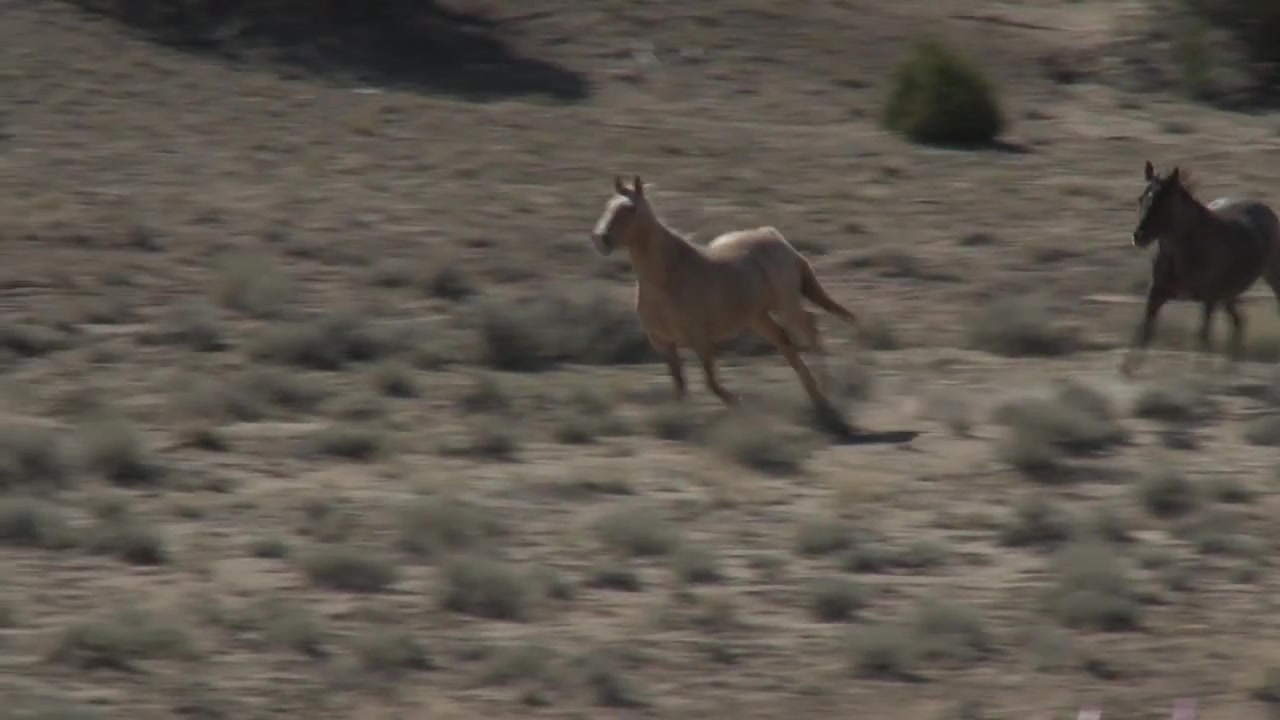horse: (587, 169, 864, 433), (1114, 159, 1280, 383)
